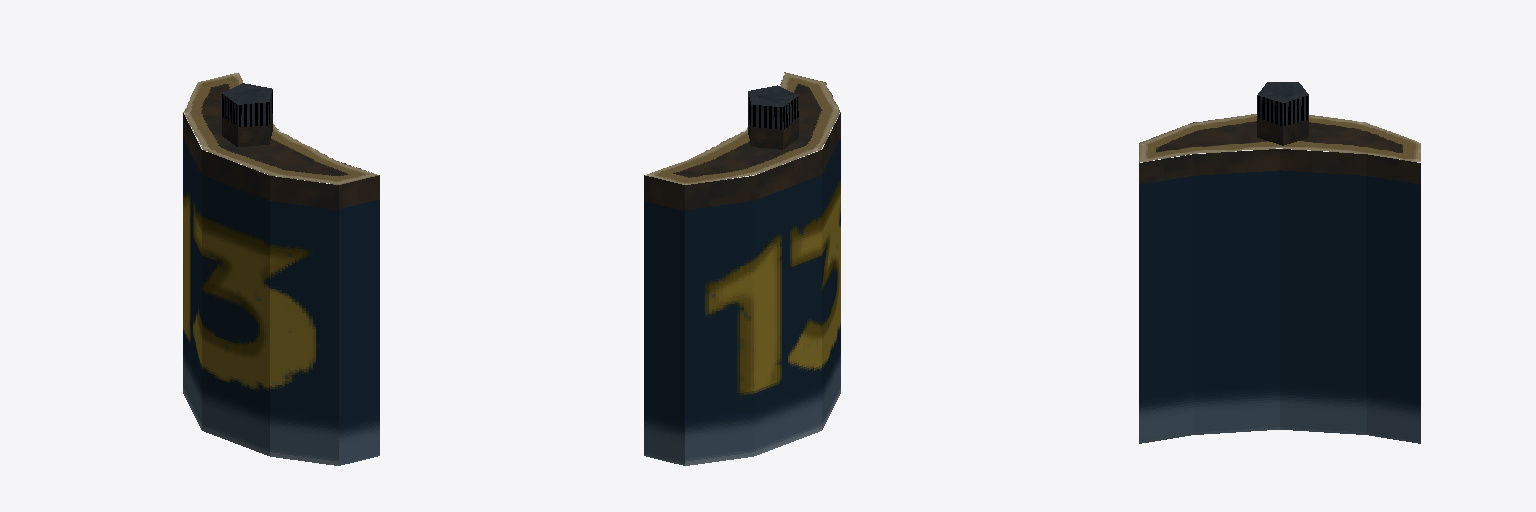
The picture shows the model from 3 angles: view 1: azimuth 30°, elevation 25°; view 2: azimuth 150°, elevation 25°; view 3: azimuth 270°, elevation 25°; orthographic projection.
Parts seen in each view (by area): view 1: Cylinder01; view 2: Cylinder01; view 3: Cylinder01.
Part boxes in pixels (bbox=[...]): Cylinder01: bbox=[183, 72, 379, 465]; Cylinder01: bbox=[644, 72, 840, 465]; Cylinder01: bbox=[1139, 82, 1420, 443].
Bounding box in the file's own units: 11.9 × 34.15 × 26.91.
1 materials, 1 textured.